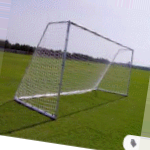goals: (14, 18, 136, 122)
